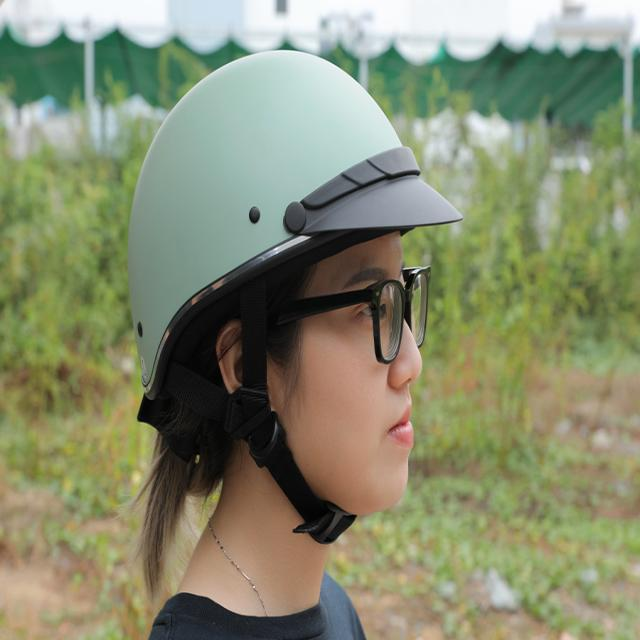1-2-helmet: (121, 45, 469, 400)
